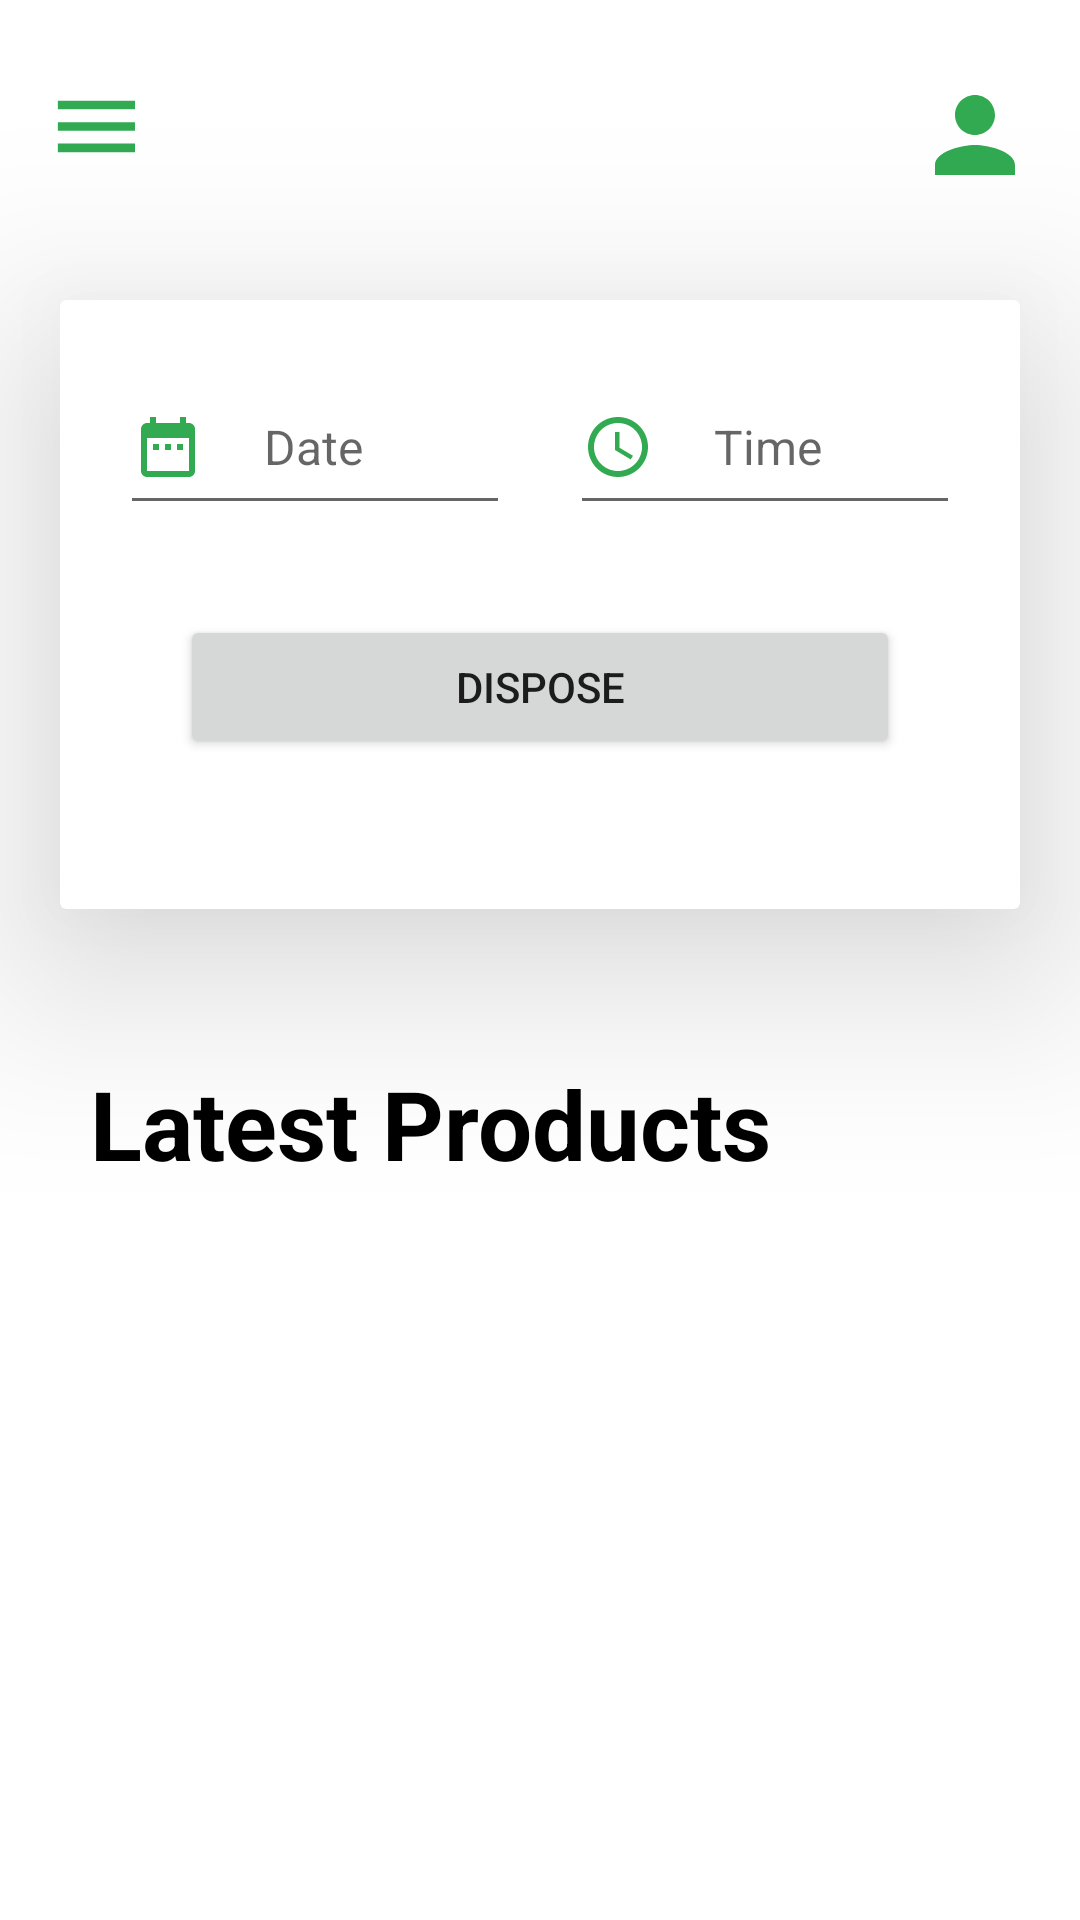

Icons on this 1080px×1920px Android screen, each with its box as (x1, y1, x2, y2):
burger menu: (57, 100, 135, 153)
profile: (935, 95, 1015, 175)
